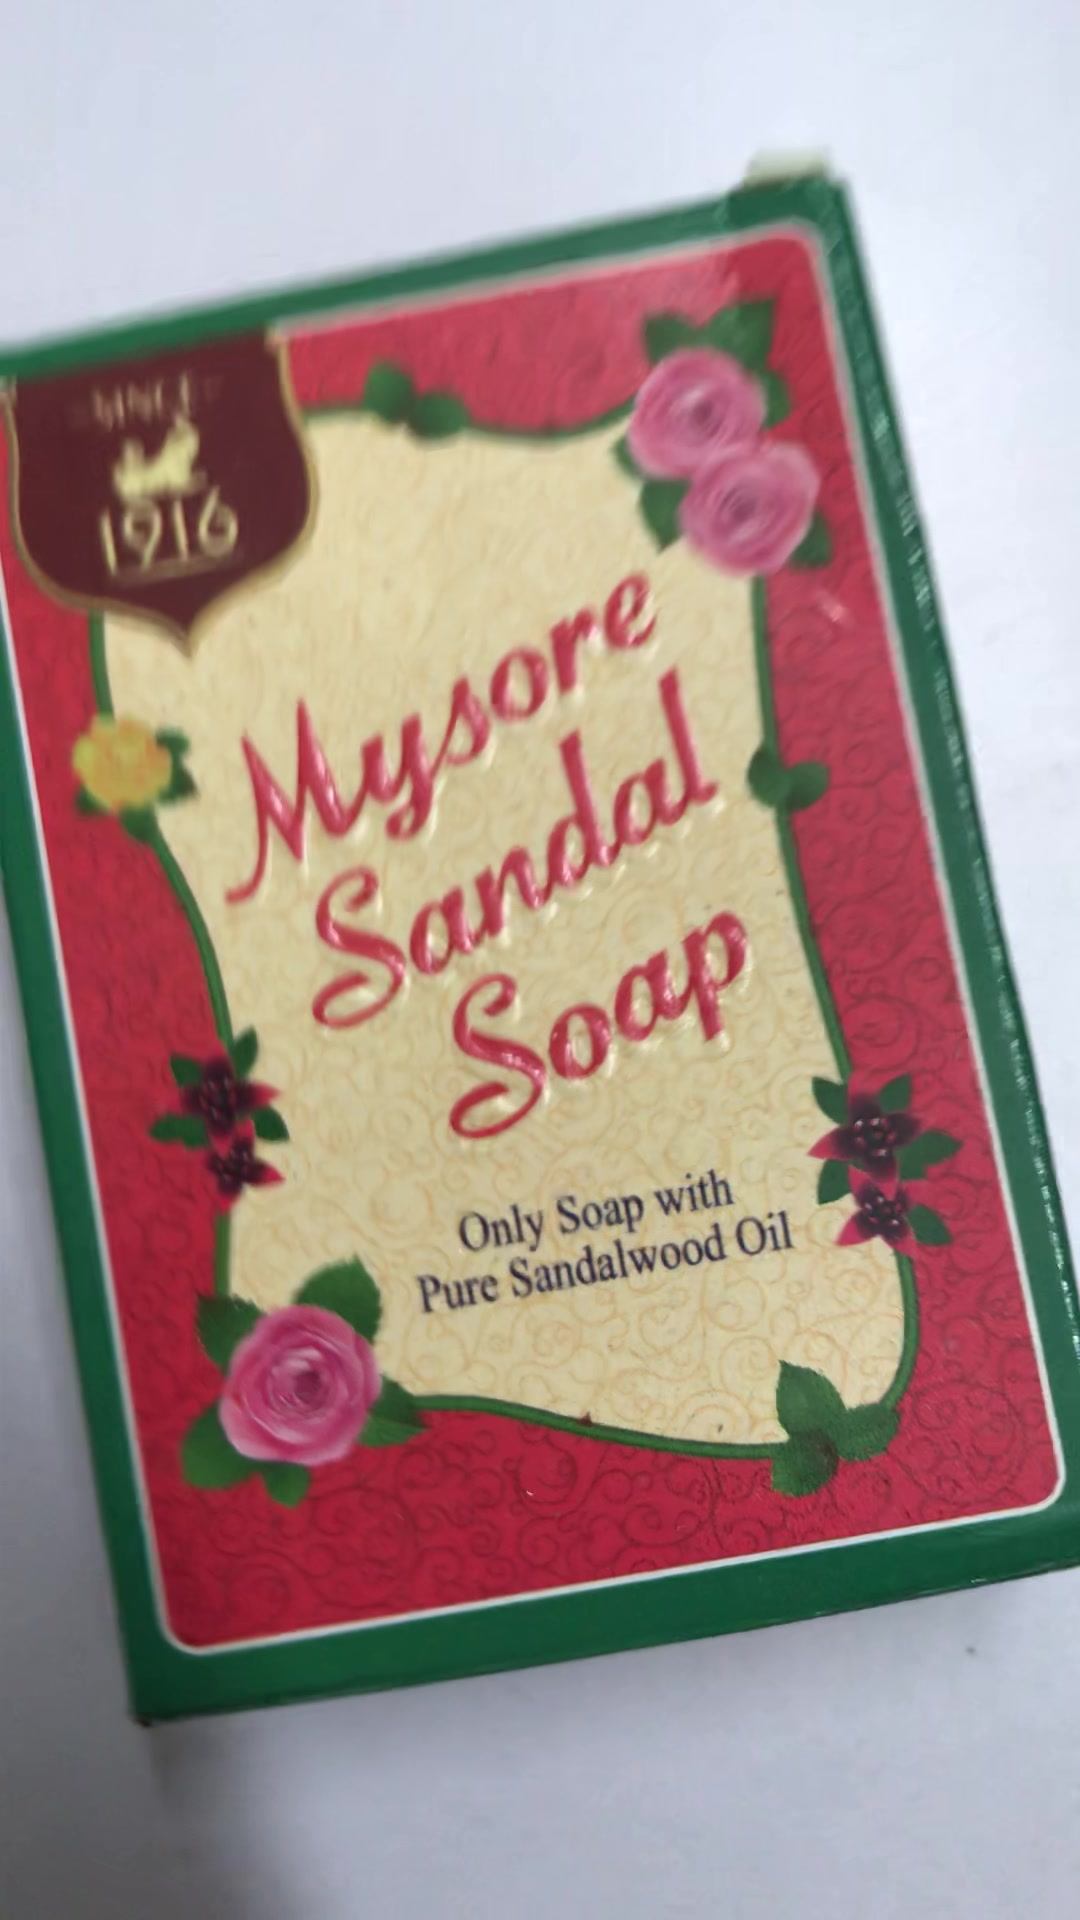mysore sandal soap: (1, 186, 1069, 1727)
